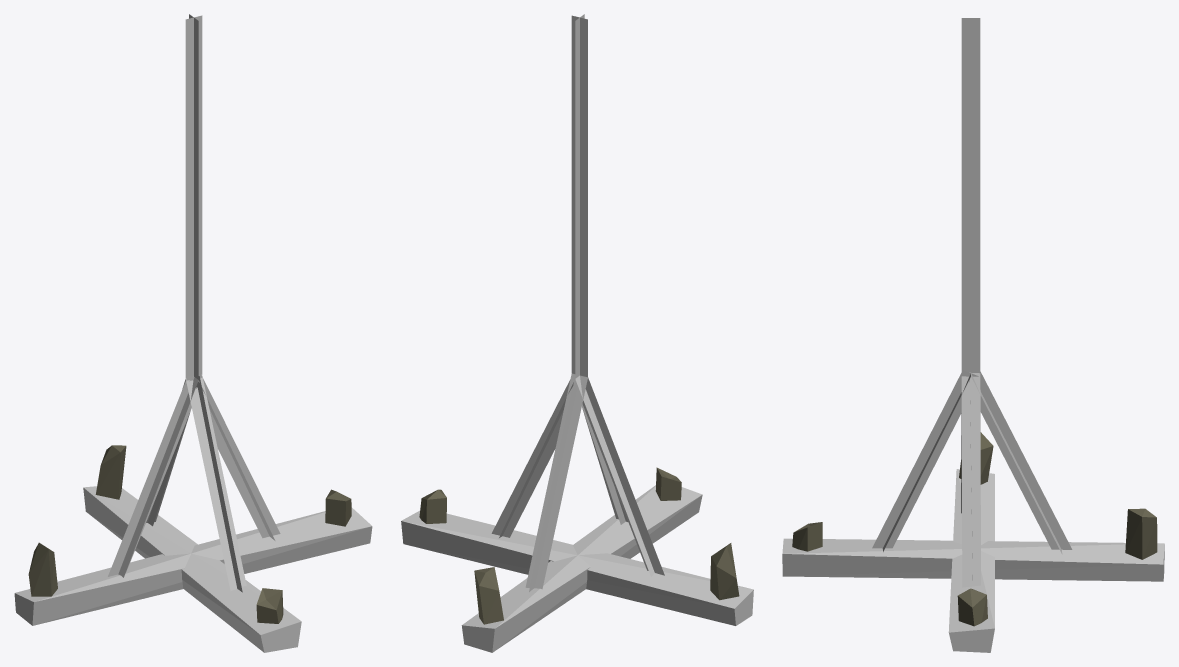
The model's file is OC_BIGLIGHTER_01.OBJ.
3 renders of one model, left to right at view 1: azimuth 30°, elevation 25°; view 2: azimuth 150°, elevation 25°; view 3: azimuth 270°, elevation 25°, orthographic.
Visible parts, largest first — view 1: OC_BIGLIGHTER_01; view 2: OC_BIGLIGHTER_01; view 3: OC_BIGLIGHTER_01.
Boxes of the visible parts, <box> form: OC_BIGLIGHTER_01: <box>14,14,372,652</box>; OC_BIGLIGHTER_01: <box>401,14,753,652</box>; OC_BIGLIGHTER_01: <box>782,18,1164,652</box>.
Size of the model in its own units: 1.4 by 2.25 by 1.4.
